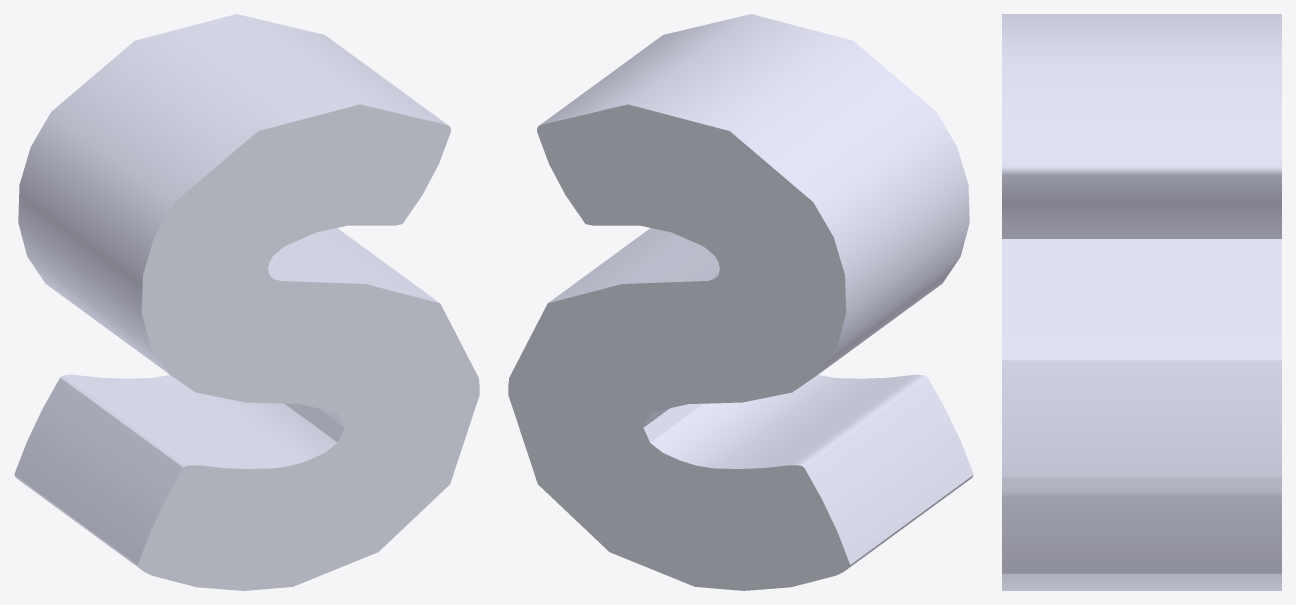
The model's file is S_Zyzol_Grey.glb.
3 renders of one model, left to right at view 1: azimuth 30°, elevation 25°; view 2: azimuth 150°, elevation 25°; view 3: azimuth 270°, elevation 25°, orthographic. The views are drawn at different scales.
Visible parts, largest first — view 1: s_Zyzol_Grey; view 2: s_Zyzol_Grey; view 3: s_Zyzol_Grey.
Part boxes in pixels (<box>): s_Zyzol_Grey: <box>14,14,479,590</box>; s_Zyzol_Grey: <box>508,14,973,590</box>; s_Zyzol_Grey: <box>1002,14,1281,590</box>.
Size of what is drawn, in the model's own units: 0.072 by 0.0937 by 0.045.
2 materials, 2 textured.
